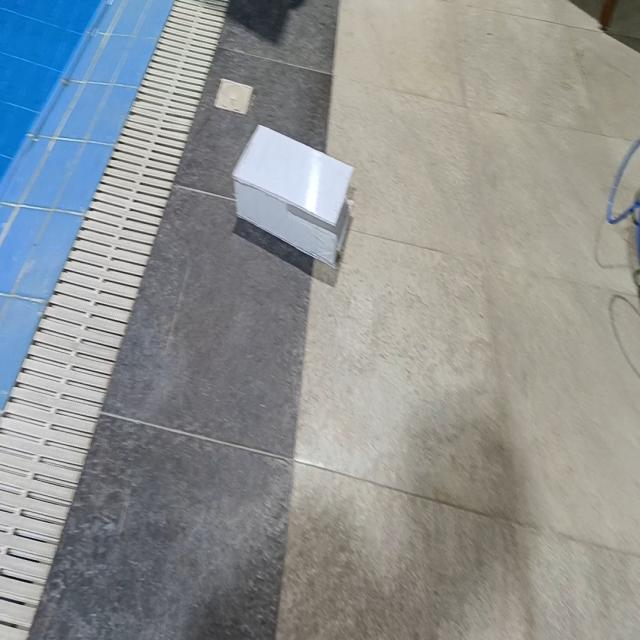Cuboid: (231, 120, 355, 270)
